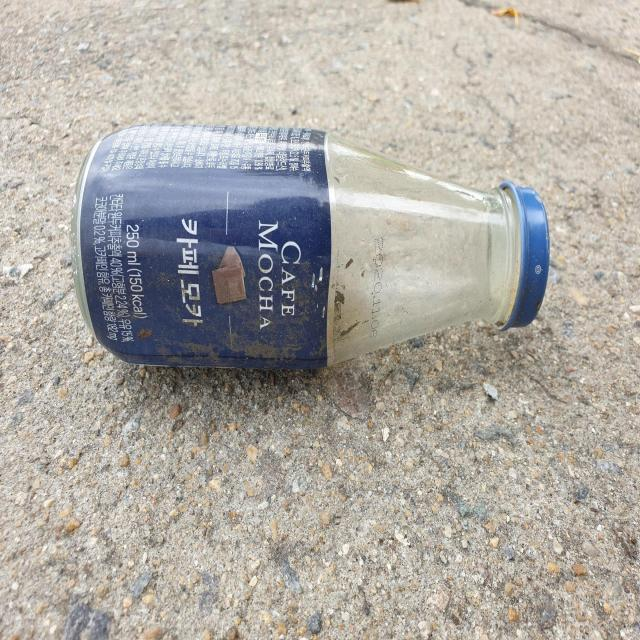glass: (71, 123, 550, 368)
